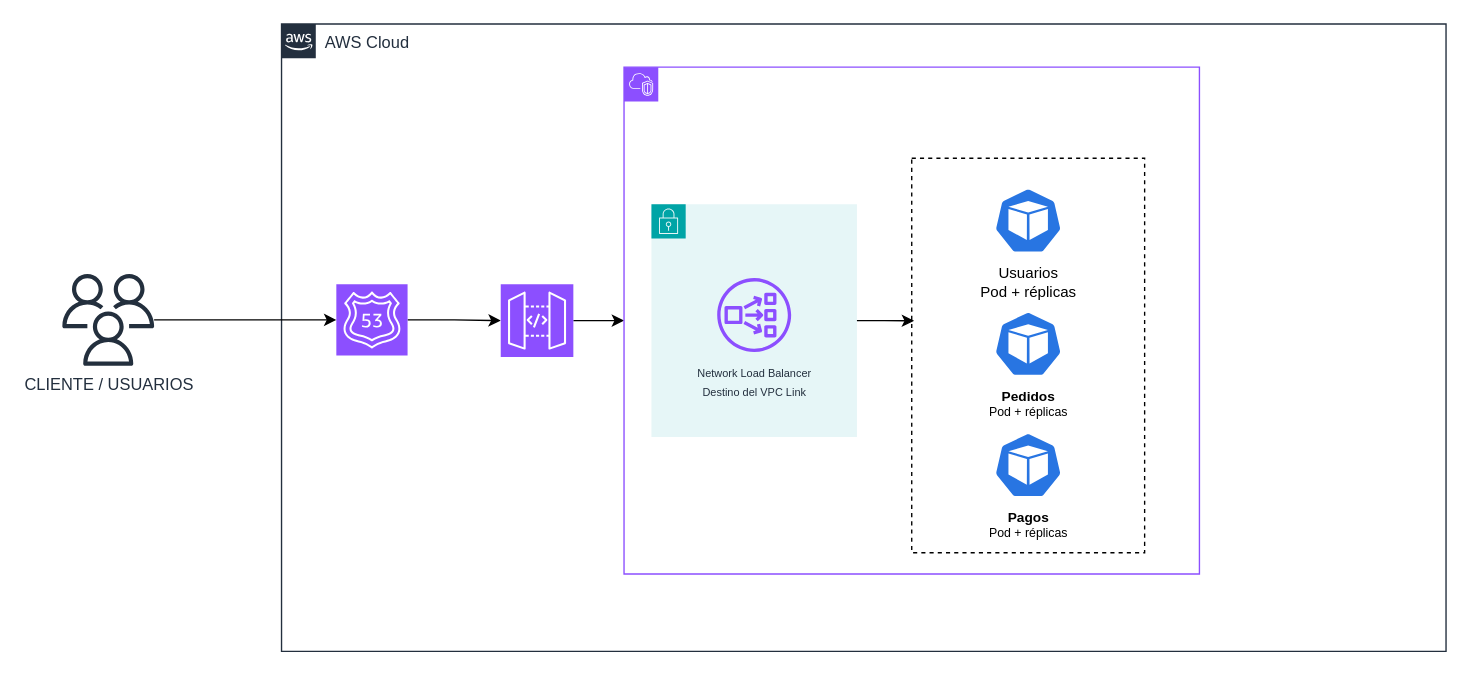
Image size: 1470x675. Some labels were removed from this diagram. The shapes that lost their labels are listed below. From the top down, each one's box as (x1, y1, x2, y2) in pixels, then its label:
(650, 203, 857, 437): Subnet privada - entrada
(623, 66, 1199, 574): VPC 10.0.0.0/16
(910, 157, 1145, 553): EKS Cluester
